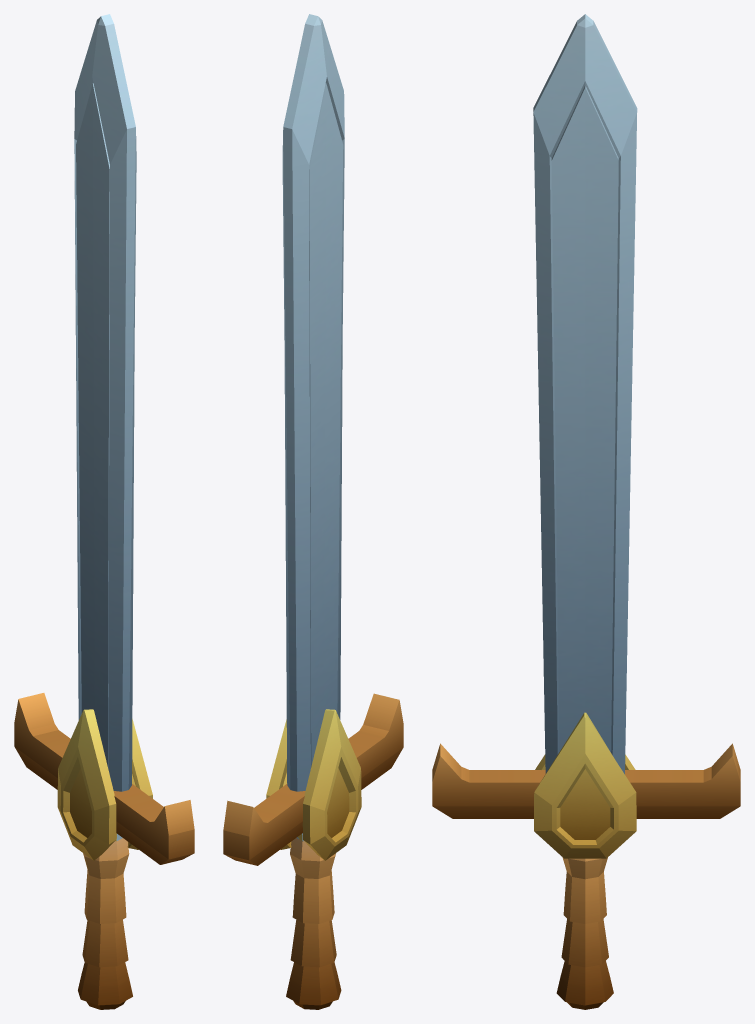
File: game_sword.fbx
3 views of the same model, side by side, from view 1: azimuth 30°, elevation 25°; view 2: azimuth 150°, elevation 25°; view 3: azimuth 270°, elevation 25° (orthographic).
Parts seen in each view (by area): view 1: wings.001, wings; view 2: wings.001, wings; view 3: wings.001, wings.
Part boxes in pixels (<box>): wings.001: <box>74,14,136,791</box>; wings: <box>14,693,194,1009</box>; wings.001: <box>282,14,344,791</box>; wings: <box>223,693,403,1009</box>; wings.001: <box>533,14,637,774</box>; wings: <box>432,712,740,1009</box>.
Size of the model in its own units: 0.1946 by 3.28 by 0.9282.
